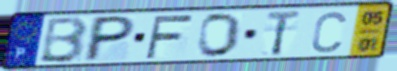B: (37, 15, 91, 65)
C: (309, 10, 348, 54)
F: (143, 13, 196, 60)
O: (196, 11, 244, 59)
P: (80, 14, 139, 64)
T: (264, 8, 303, 57)
